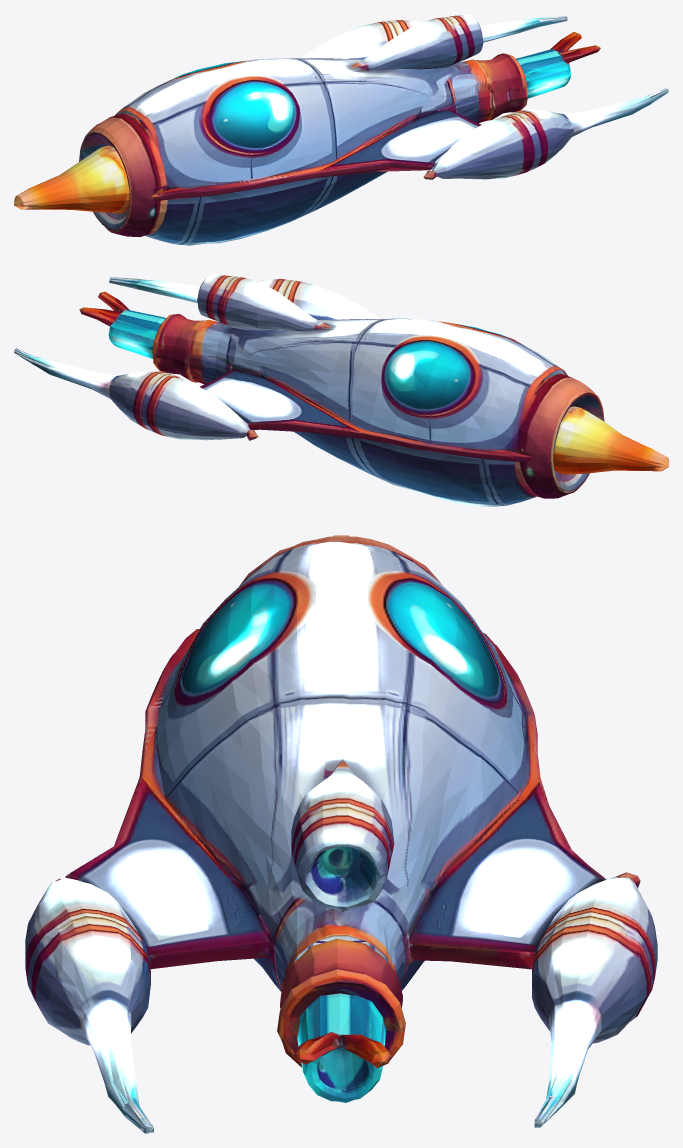
Rendered from Meshy_AI_Azure_Comet_0529140657_texture.glb.
3 views of the same model, one above another, from view 1: azimuth 30°, elevation 25°; view 2: azimuth 150°, elevation 25°; view 3: azimuth 270°, elevation 25° (orthographic). The views are drawn at different scales.
Size of the model in its own units: 1.91 by 0.4814 by 0.865.
Materials: 1 (1 with a texture image).
